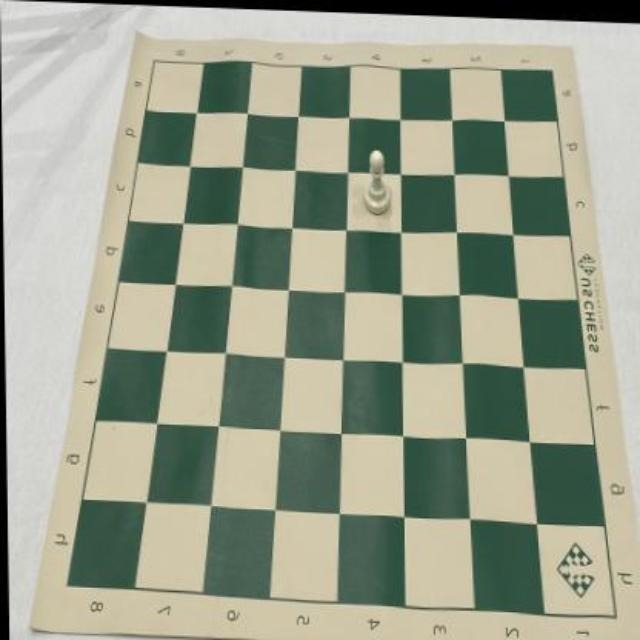white-pawn: (362, 144, 392, 213)
